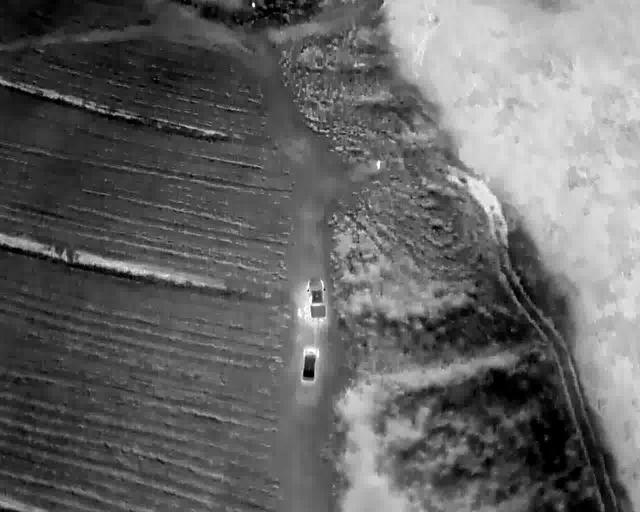car: (308, 277, 324, 322), (301, 347, 317, 381)
person: (297, 306, 302, 316), (375, 160, 380, 169)
